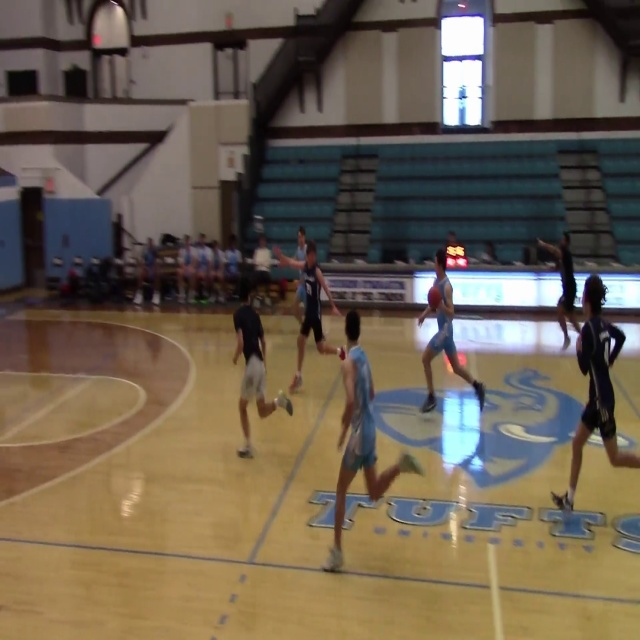Basketball: (427, 286, 442, 310), (337, 346, 346, 360)
